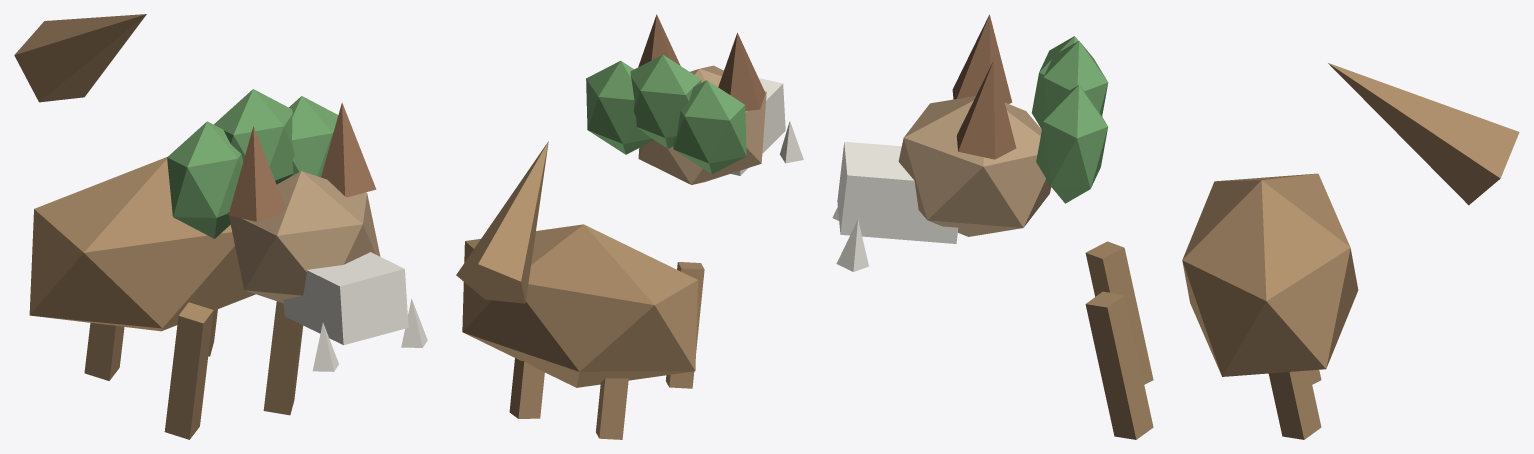
File: npcpose_wolf_attack_08.glb
3 renders of one model, left to right at view 1: azimuth 30°, elevation 25°; view 2: azimuth 150°, elevation 25°; view 3: azimuth 270°, elevation 25°, orthographic. The views are drawn at different scales.
Visible parts, largest first — view 1: npcpose; view 2: npcpose; view 3: npcpose.
Boxes of the visible parts, x1,y1,x2,y2 form: npcpose: (14, 14, 427, 439); npcpose: (456, 14, 803, 439); npcpose: (832, 14, 1519, 439).
Bounding box in the file's own units: 0.8873 × 1.13 × 1.88.
